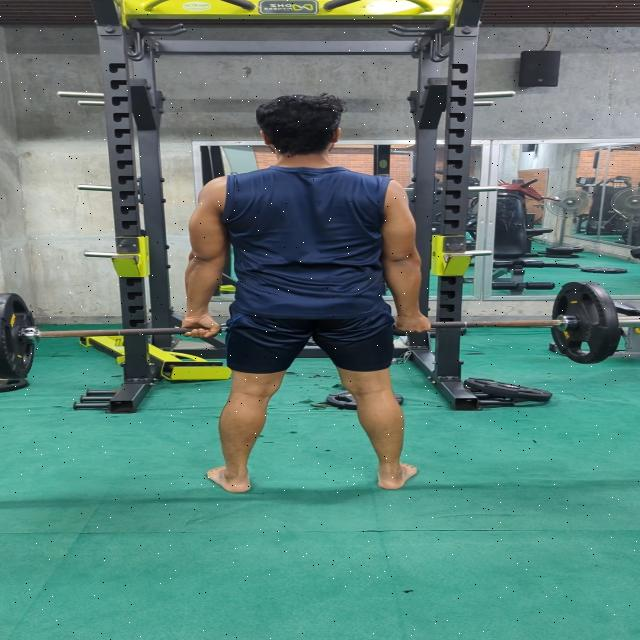Normal_Deadlifts: (178, 92, 438, 494)
